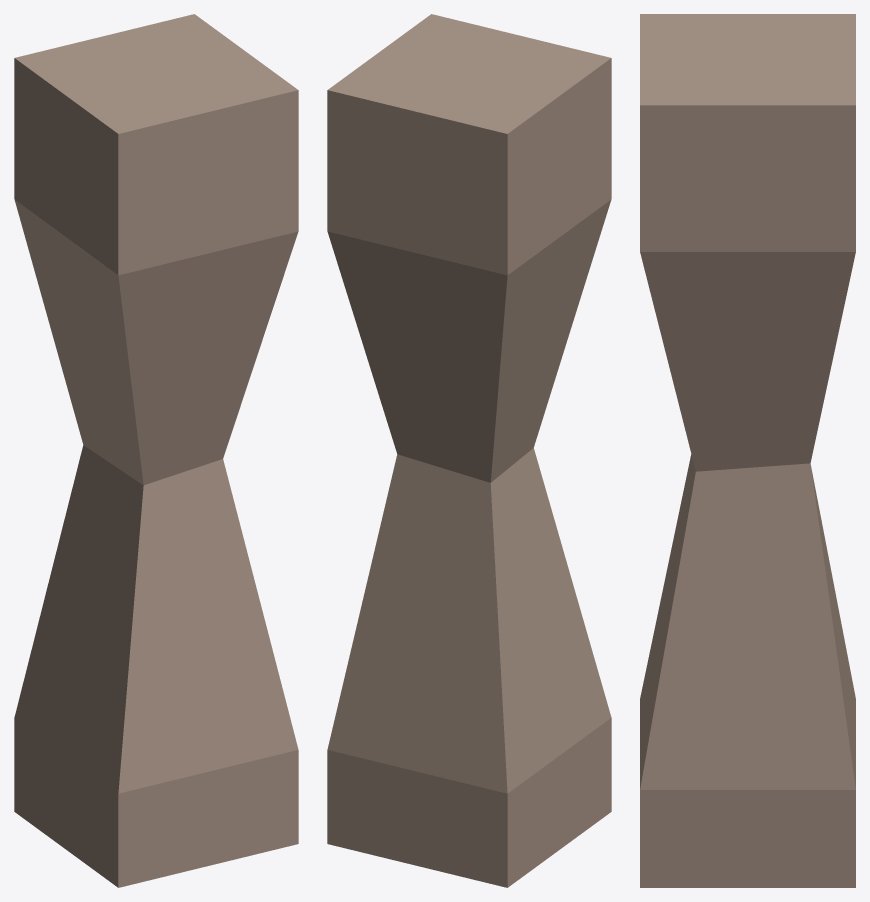
File: Railing_End.fbx
3 views of the same model, side by side, from view 1: azimuth 30°, elevation 25°; view 2: azimuth 150°, elevation 25°; view 3: azimuth 270°, elevation 25° (orthographic). The views are drawn at different scales.
Parts seen in each view (by area): view 1: Railing_End; view 2: Railing_End; view 3: Railing_End.
Boxes of the visible parts, left/top/right/bottom form: Railing_End: left=14, top=14, right=298, bottom=887; Railing_End: left=327, top=14, right=611, bottom=887; Railing_End: left=640, top=14, right=855, bottom=887.
Size of the model in its own units: 0.125 by 0.125 by 0.5.
